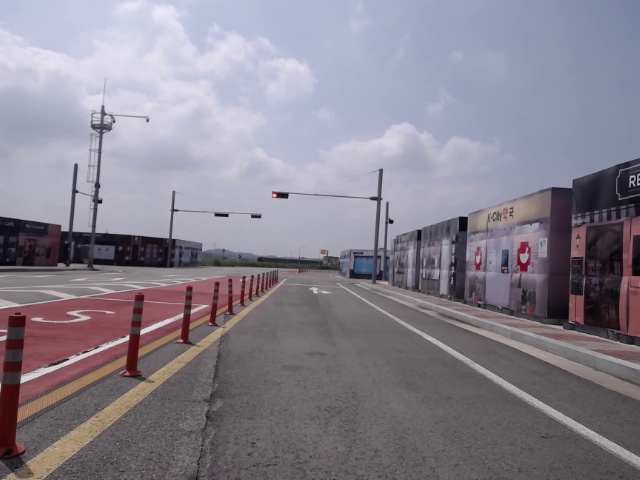red_3: (272, 192, 289, 199)
